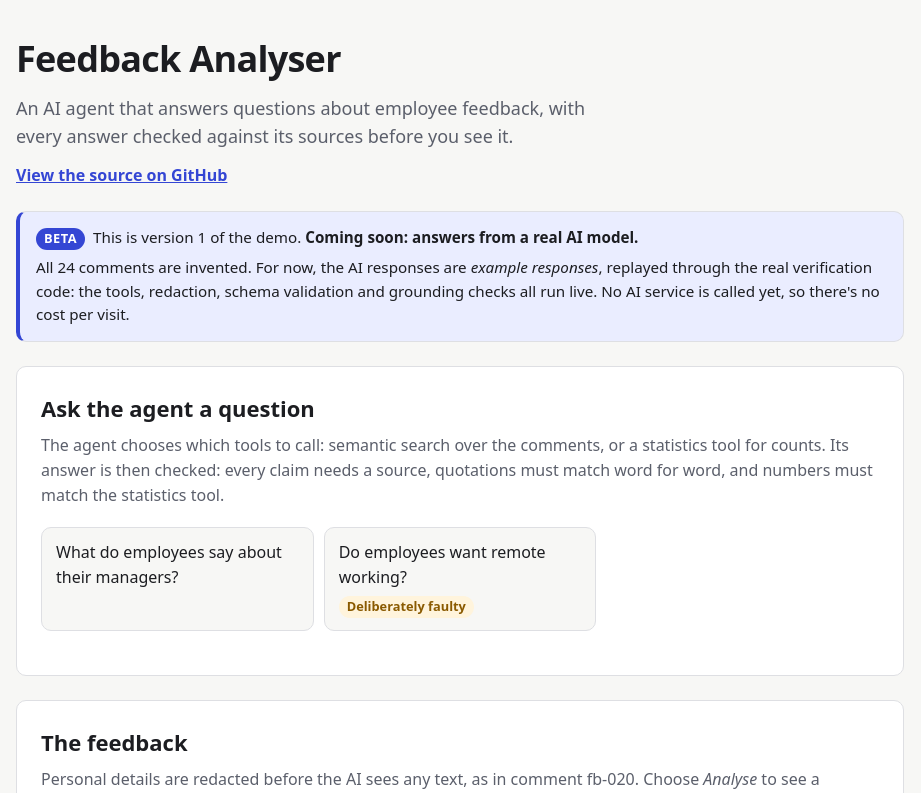
Test: App › shows a rejected answer with the validator's reason
Click the button "Do employees want remote working? Deliberately faulty": (442, 552) [324,527,596,631]
(page scrolled)
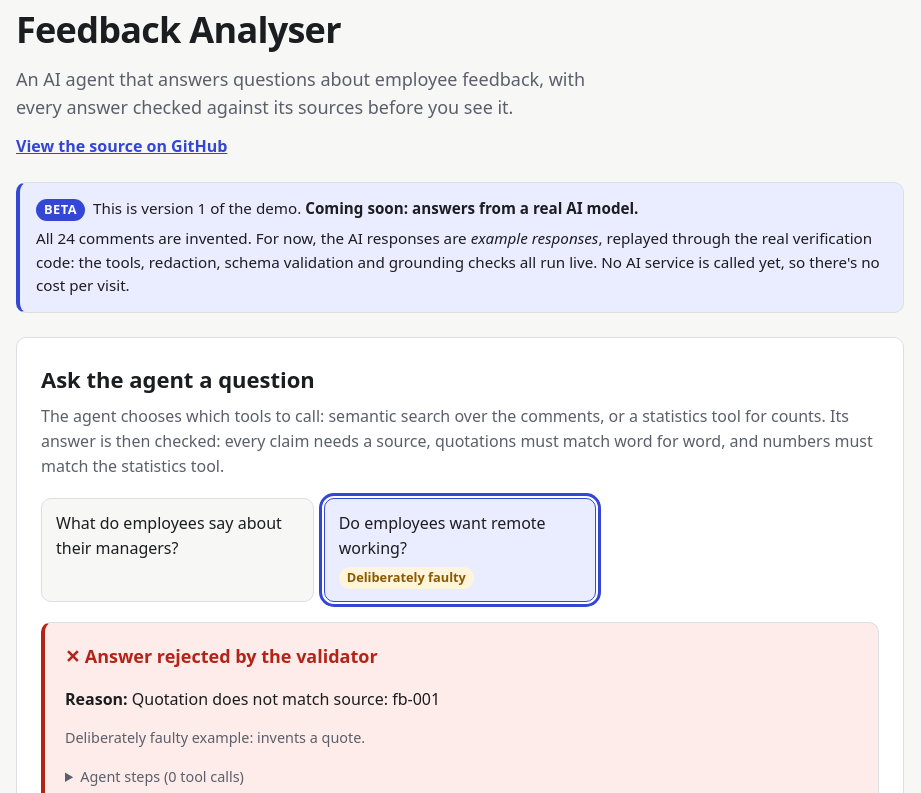
Expected: the heading "✕ Answer rejected by the validator" is shown, [65,644,378,668]
Expected: the text "Quotation does not match source: fb-001" is shown, [132,688,440,710]
